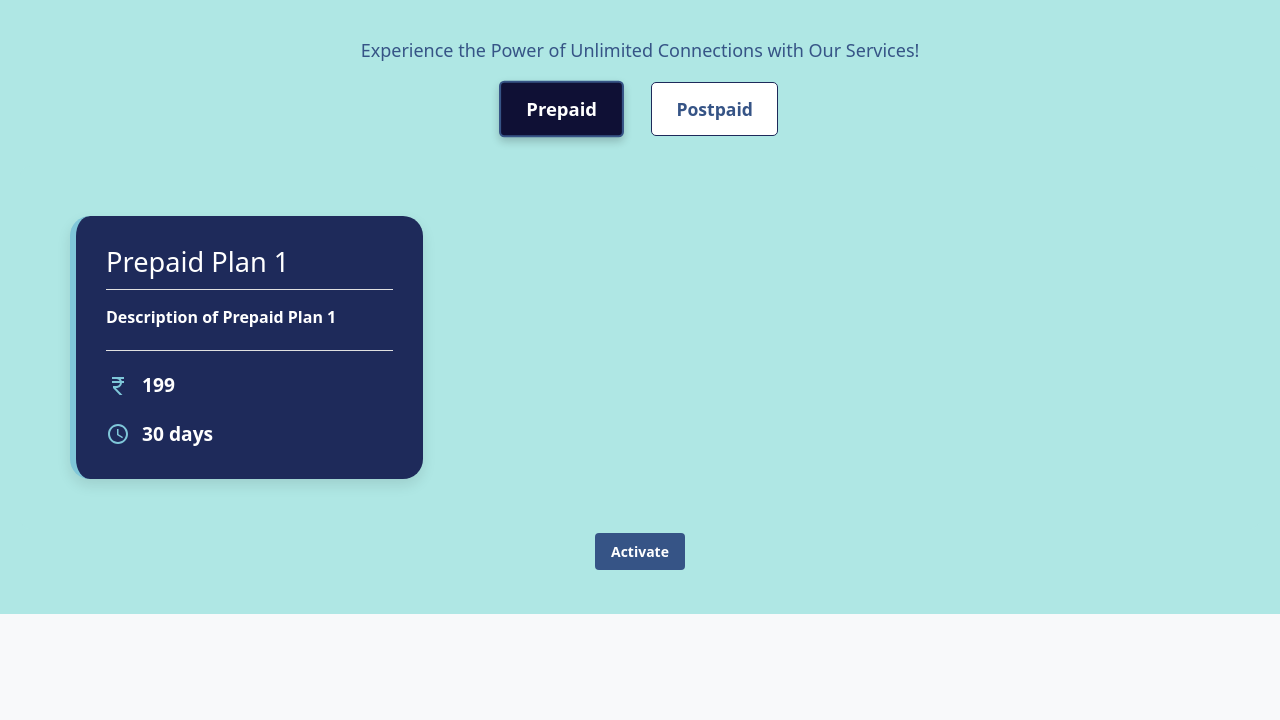
Test case: ServicePlans Component › displays error message if plan activation fails
The image size is (1280, 720).
What coordinates should you click on to do the following:
click the heading "Prepaid Plan 1"
I would click on:
 (250, 268)
Its box is [106,246,393,290].
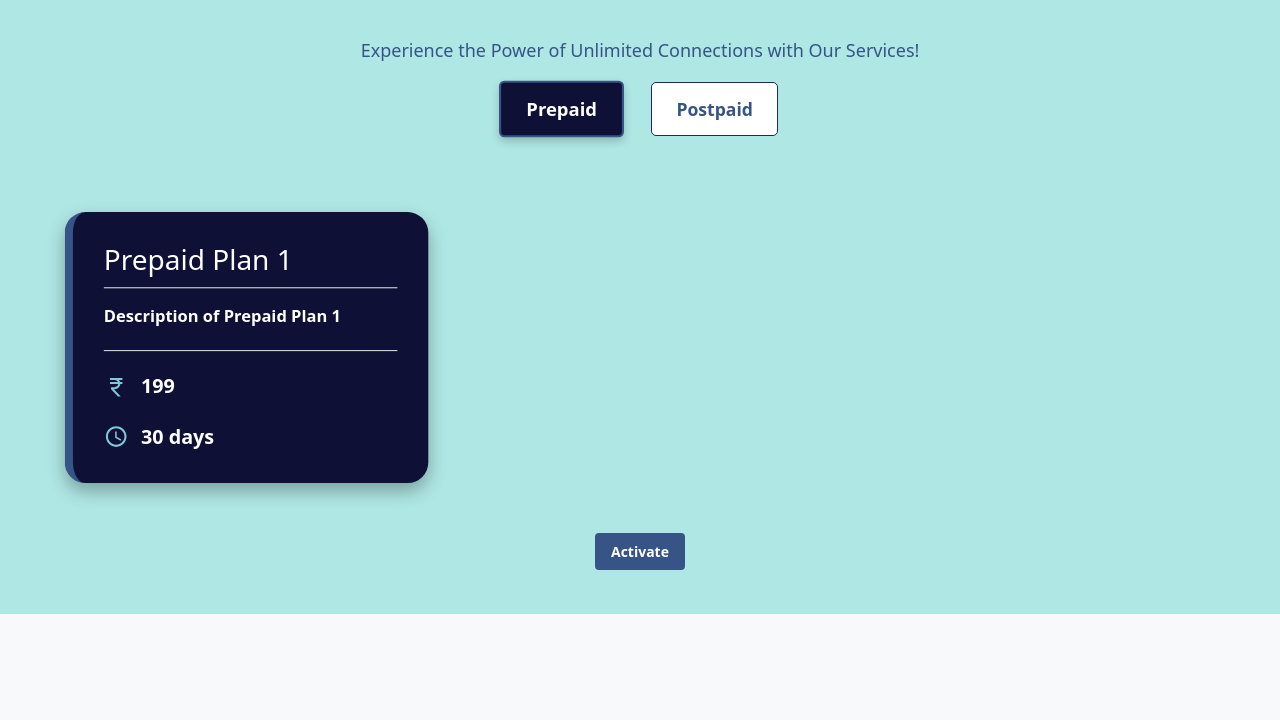
What coordinates should you click on to do the following:
click the button "Activate"
I would click on:
 (640, 551)
Its box is [595,533,685,570].
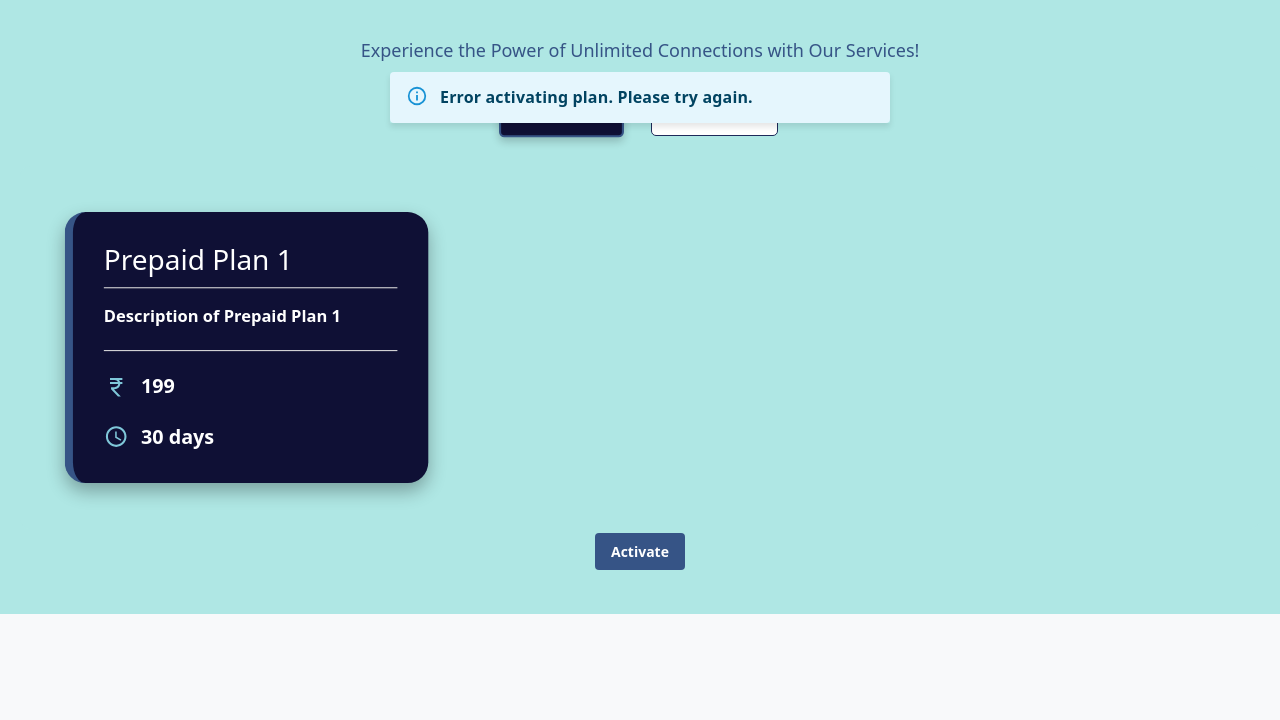
Result: the text "Error activating plan. Please try again." is shown at [440,86,753,108]
